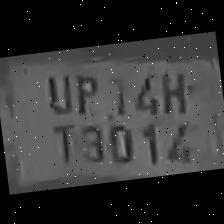0: (101, 114, 134, 164)
1: (132, 110, 162, 166)
3: (72, 114, 107, 168)
4: (156, 108, 195, 164), (126, 64, 159, 118)
7: (97, 63, 132, 118)
H: (152, 62, 188, 115)
P: (66, 65, 102, 117)
T: (43, 114, 78, 164)
U: (38, 66, 74, 116)
